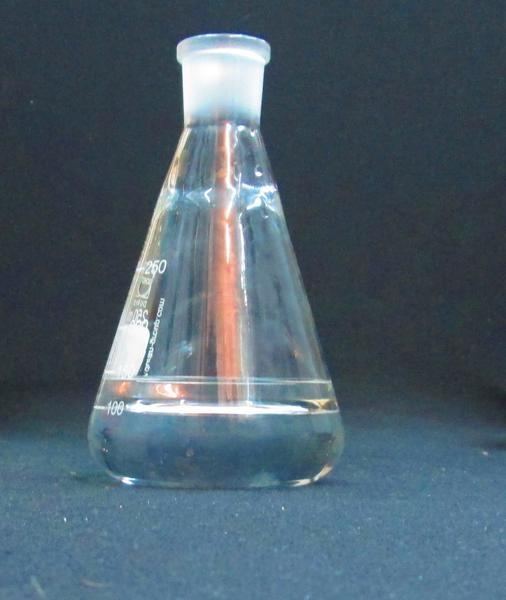Titrarion: (86, 29, 344, 479)
